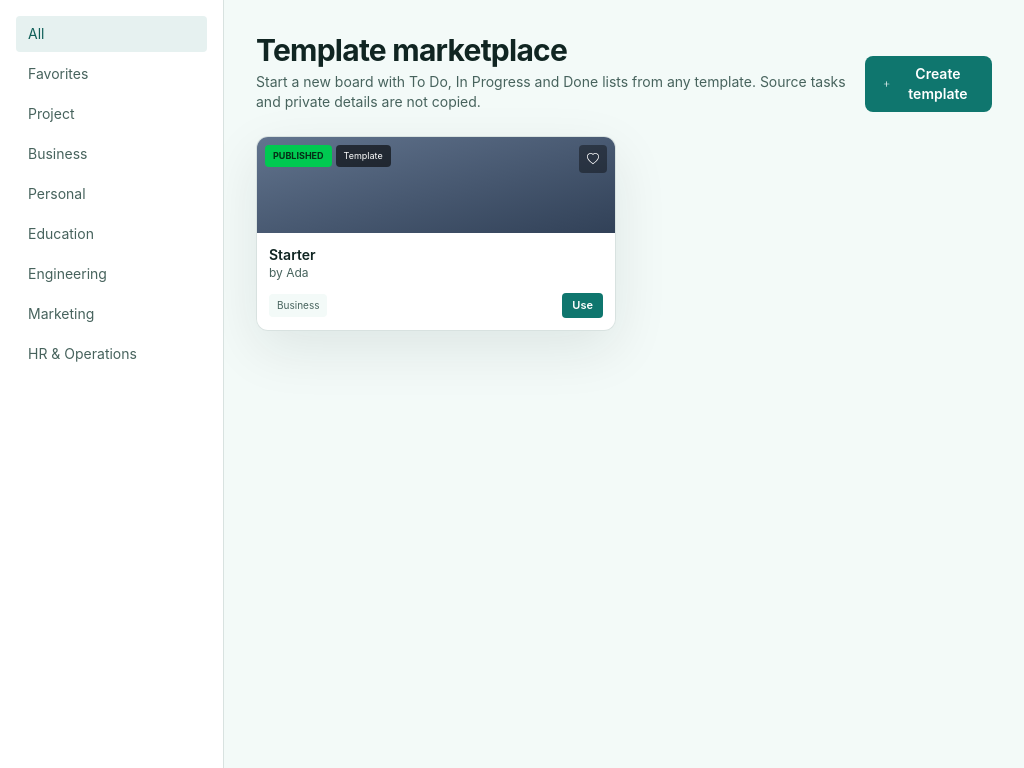
Test: use template action › exposes the detail panel as a labelled modal that closes with Escape
The image size is (1024, 768).
Click the button "Starter": x=292, y=254 [269,245,603,265]
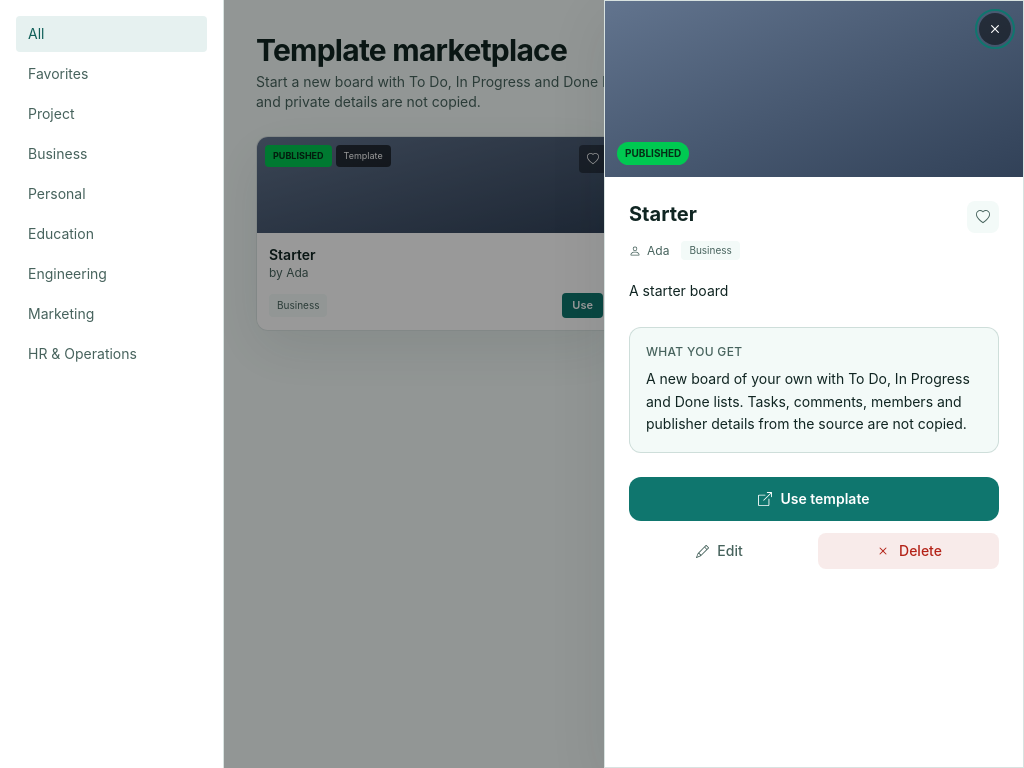
Press Escape in the dialog "Starter", box [604,0,1023,767]
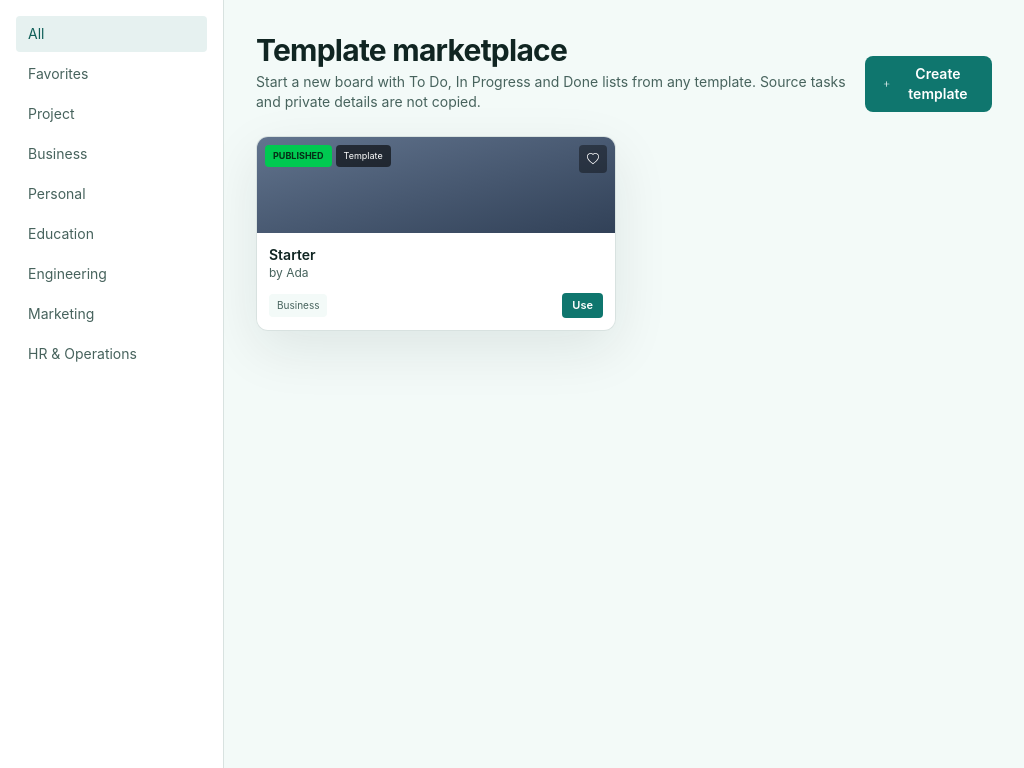
Expected: the dialog is gone
